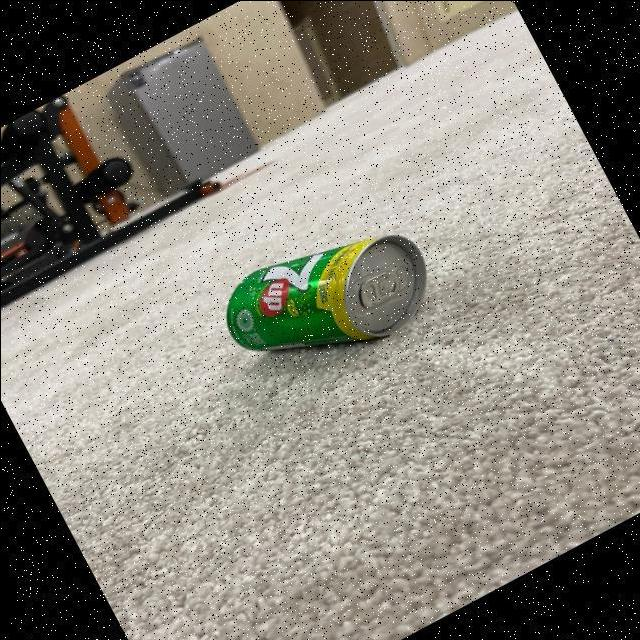can: (208, 195, 450, 402)
